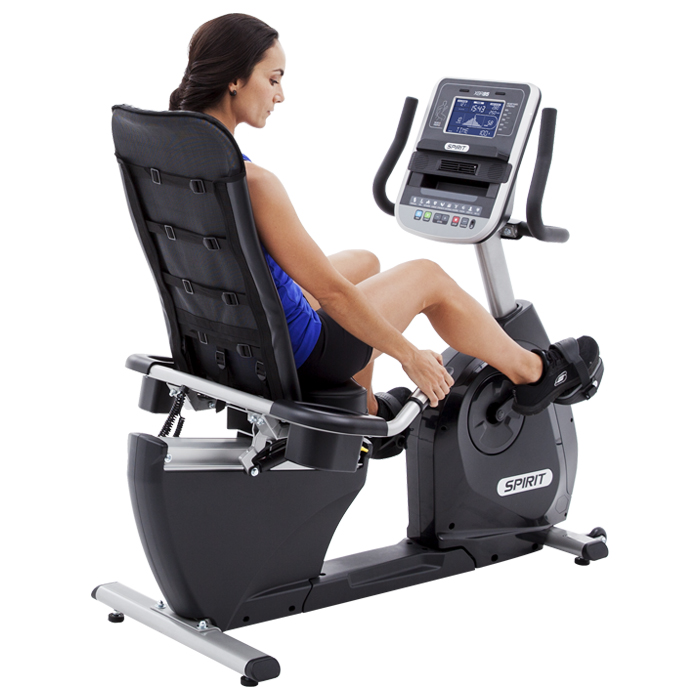gym_bike: (87, 98, 616, 654)
